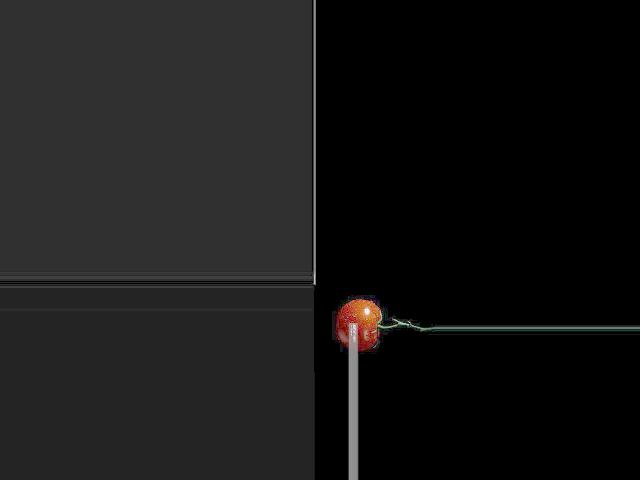tomato: (338, 300, 380, 349)
